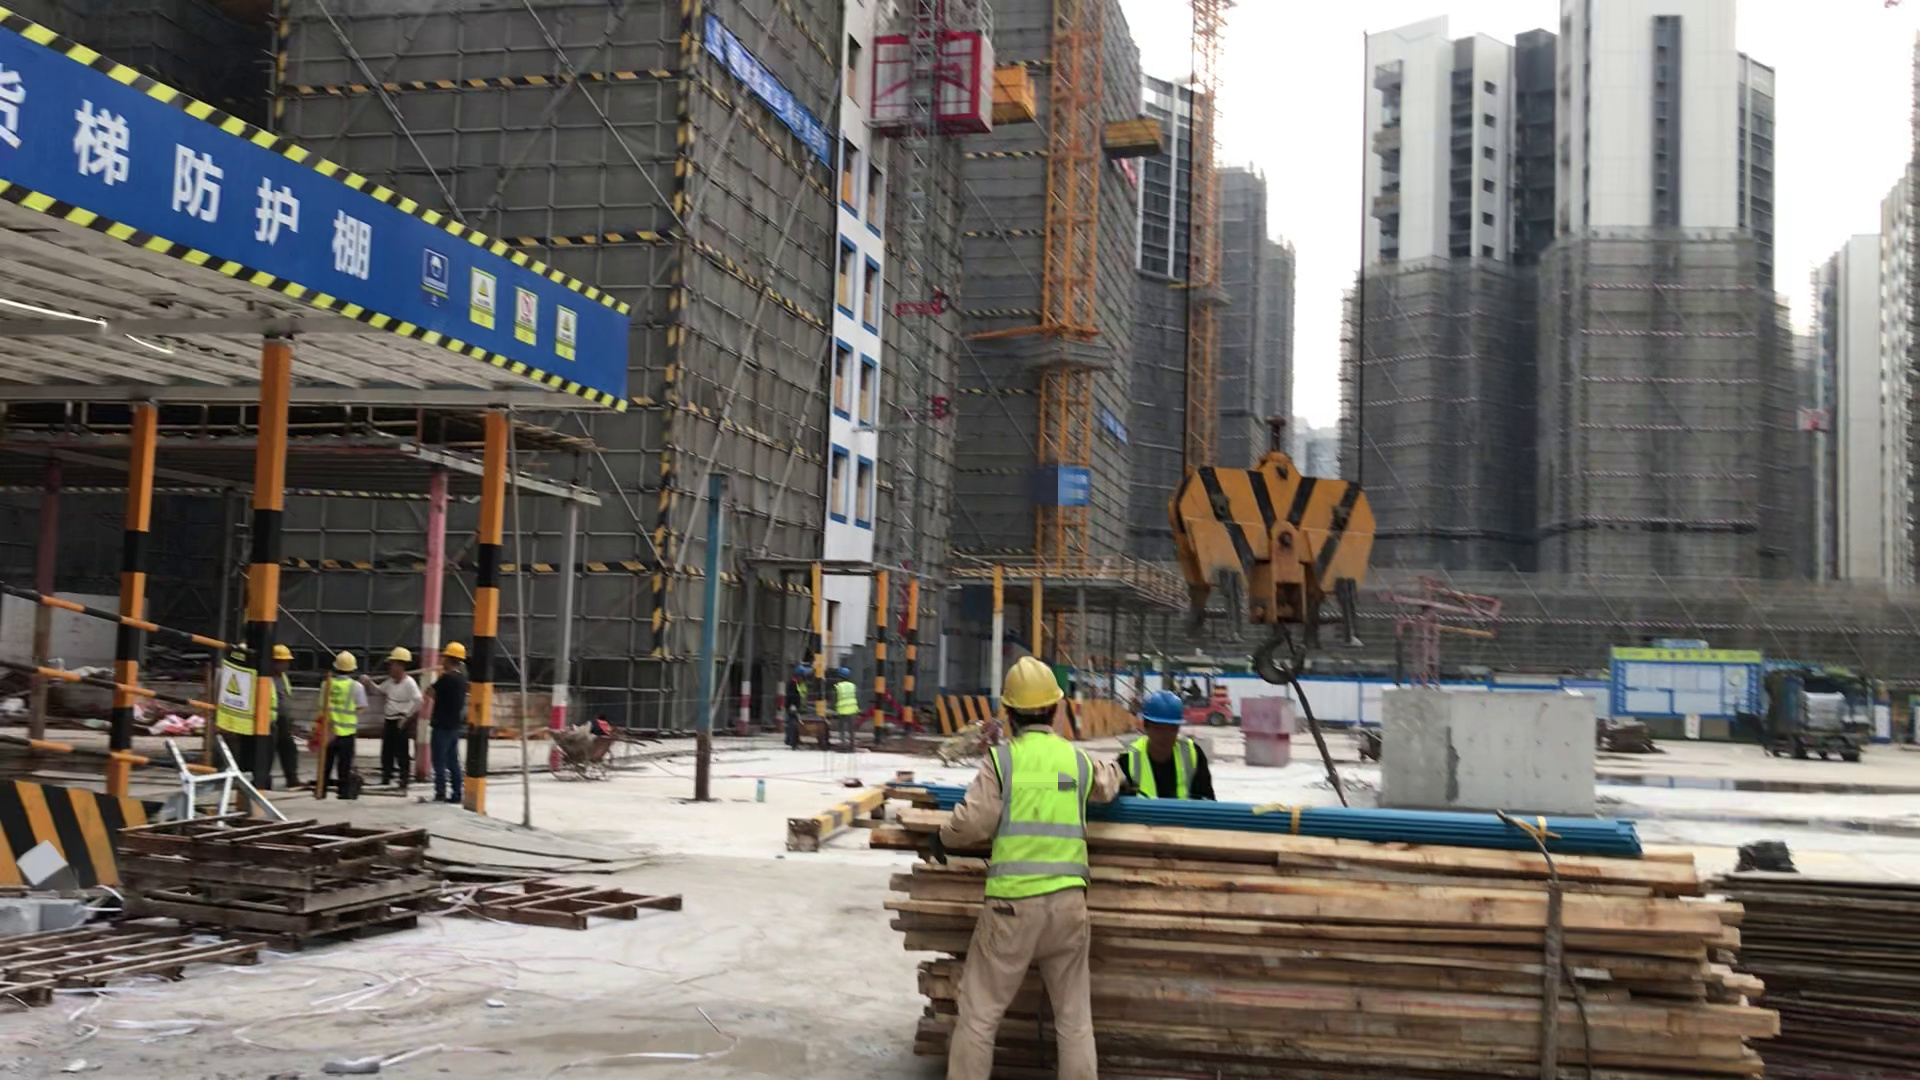board: (1733, 851, 1920, 1075)
handcart: (544, 715, 647, 794), (928, 705, 1005, 757), (793, 710, 834, 751)
helmet: (1001, 655, 1063, 716), (1136, 690, 1193, 730), (438, 641, 467, 666), (384, 645, 412, 669), (331, 650, 359, 674), (271, 642, 294, 666), (836, 665, 853, 681), (790, 666, 806, 679)
hook: (1168, 427, 1379, 676)
person: (964, 652, 1121, 1080), (1115, 685, 1219, 801), (375, 641, 427, 794), (425, 639, 471, 807), (317, 645, 364, 807), (258, 637, 300, 792), (829, 662, 861, 752), (779, 665, 810, 757)
slogan: (1, 57, 382, 263), (692, 9, 833, 182), (421, 240, 585, 362), (214, 652, 261, 741), (1041, 465, 1093, 507)
vest: (986, 736, 1094, 898), (1126, 739, 1199, 798), (325, 679, 360, 740), (834, 681, 860, 715)
wood: (874, 852, 1739, 1065)
